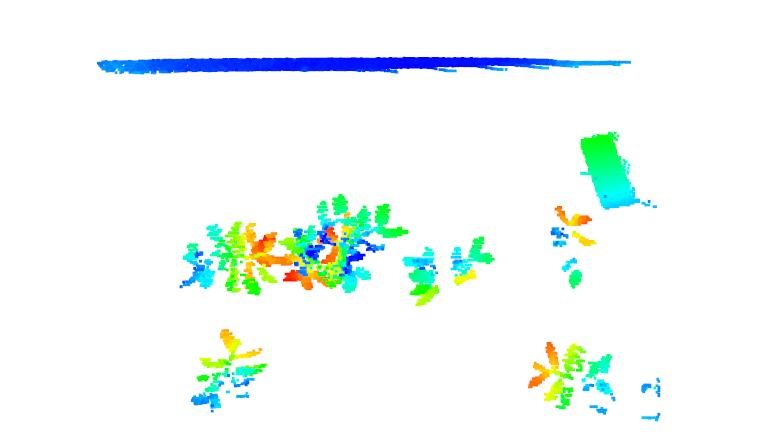chickpea: (318, 191, 411, 295), (179, 219, 285, 297), (401, 235, 499, 306), (190, 328, 268, 417), (525, 340, 616, 414), (549, 202, 597, 291), (279, 221, 331, 294)
